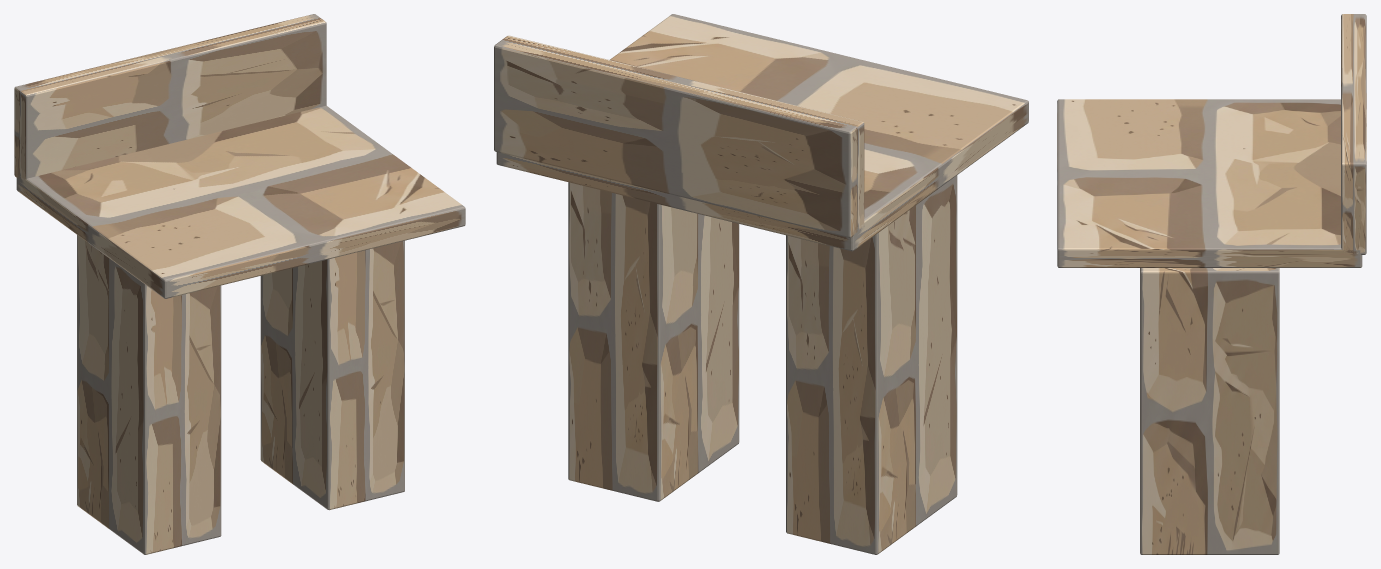
File: archer_platform_high_4m_LOD1.glb
3 views of the same model, side by side, from view 1: azimuth 30°, elevation 25°; view 2: azimuth 150°, elevation 25°; view 3: azimuth 270°, elevation 25° (orthographic). The views are drawn at different scales.
Parts seen in each view (by area): view 1: LOD_Deck, LOD_Pier, LOD_Pier.001, LOD_Screen; view 2: LOD_Pier, LOD_Pier.001, LOD_Screen, LOD_Deck; view 3: LOD_Deck, LOD_Pier.001, LOD_Screen.
Boxes of the visible parts, x1,y1,x2,y2 form: LOD_Deck: [16, 105, 465, 298]; LOD_Pier: [77, 235, 221, 554]; LOD_Pier.001: [260, 240, 404, 510]; LOD_Screen: [14, 14, 326, 180]; LOD_Pier: [786, 175, 957, 554]; LOD_Pier.001: [568, 182, 739, 501]; LOD_Screen: [494, 35, 864, 237]; LOD_Deck: [496, 14, 1028, 251]; LOD_Deck: [1057, 99, 1362, 267]; LOD_Pier.001: [1140, 268, 1279, 554]; LOD_Screen: [1341, 14, 1366, 254].
Size of the model in its own units: 4.2 by 5.24 by 3.65.
Materials: 1 (1 with a texture image).
